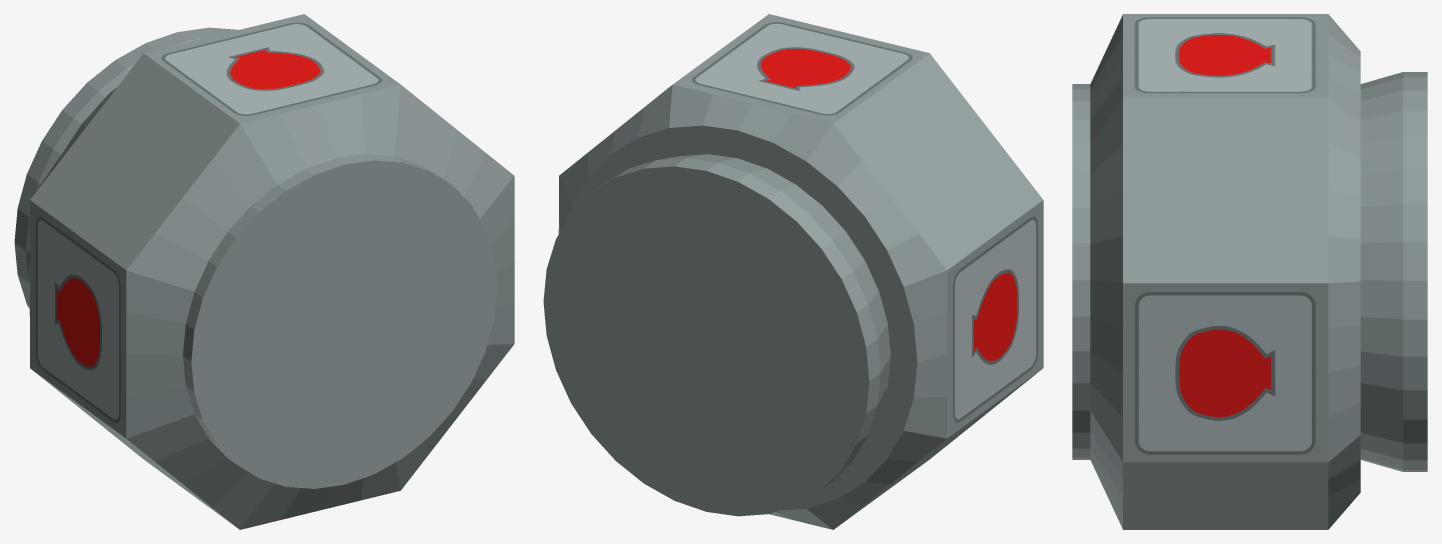
File: pillar.obj
3 renders of one model, left to right at view 1: azimuth 30°, elevation 25°; view 2: azimuth 150°, elevation 25°; view 3: azimuth 270°, elevation 25°, orthographic. The views are drawn at different scales.
Parts seen in each view (by area): view 1: Cylinder; view 2: Cylinder; view 3: Cylinder.
Boxes of the visible parts, box(x1,y1,x2,y2) form: Cylinder: box(14, 14, 514, 529); Cylinder: box(543, 14, 1043, 529); Cylinder: box(1072, 14, 1427, 529).
Bounding box in the file's own units: 1.01 × 1.01 × 0.7538.
